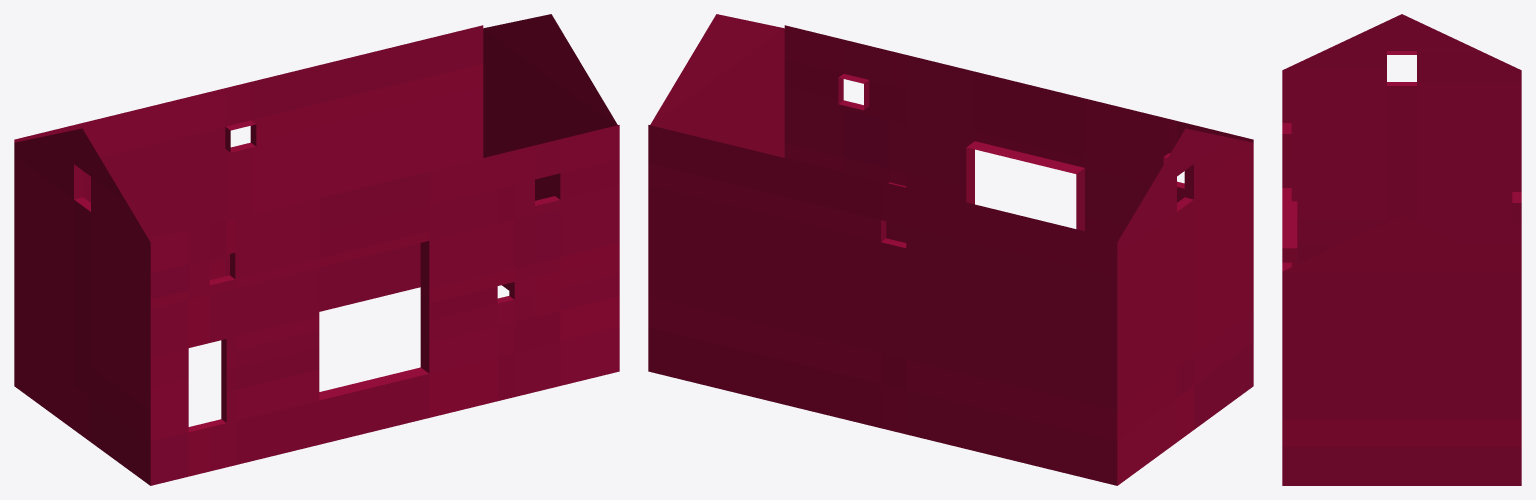
File: SM_Bld_004_Masonry.glb
3 views of the same model, side by side, from view 1: azimuth 30°, elevation 25°; view 2: azimuth 150°, elevation 25°; view 3: azimuth 270°, elevation 25° (orthographic). The views are drawn at different scales.
Parts seen in each view (by area): view 1: SM_Bld_004_Masonry; view 2: SM_Bld_004_Masonry; view 3: SM_Bld_004_Masonry.
Boxes of the visible parts, left/top/right/bottom form: SM_Bld_004_Masonry: left=14, top=14, right=619, bottom=485; SM_Bld_004_Masonry: left=648, top=14, right=1253, bottom=485; SM_Bld_004_Masonry: left=1282, top=14, right=1521, bottom=485.
Bounding box in the file's own units: 11.08 × 6.95 × 5.57.
